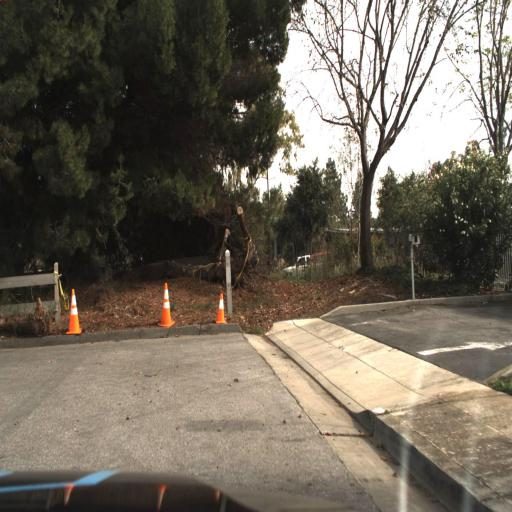truck: (282, 250, 335, 285)
